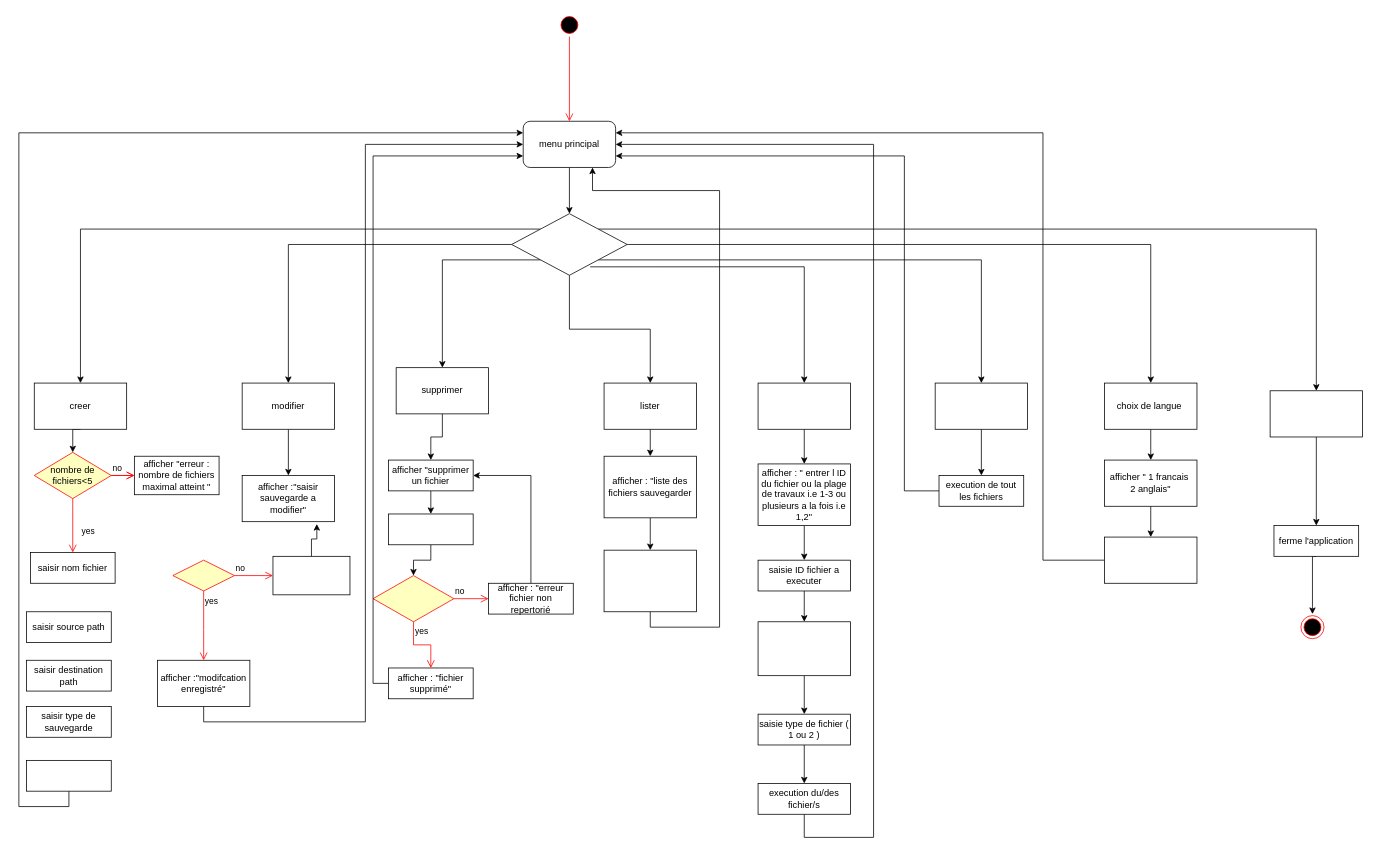
Some shapes in this 1376 by 857 pixel diagram are drawn without their labels. The shapes that lost their labels are listed below. From the top down, each one's centre as x and y in pixels, then its label:
[569,244]: choix utilisateur
[803,405]: executer
[981,405]: executer tout
[1316,413]: quitter
[430,529]: saisir l'ID du fichier a supprimer
[203,575]: saisie valide
[311,575]: afficher :"une erreure c est produite"
[1150,559]: saisie du choix de langue
[413,598]: sauvegarde trouvée
[649,580]: afficher la liste des ficiers (ID,nom,file path,derniere utilisation)
[803,648]: afficher : "choisir quel type de fichier voulais vous pour la sauvegarde
[68,775]: afficher : "sauvegarde reussie !"
